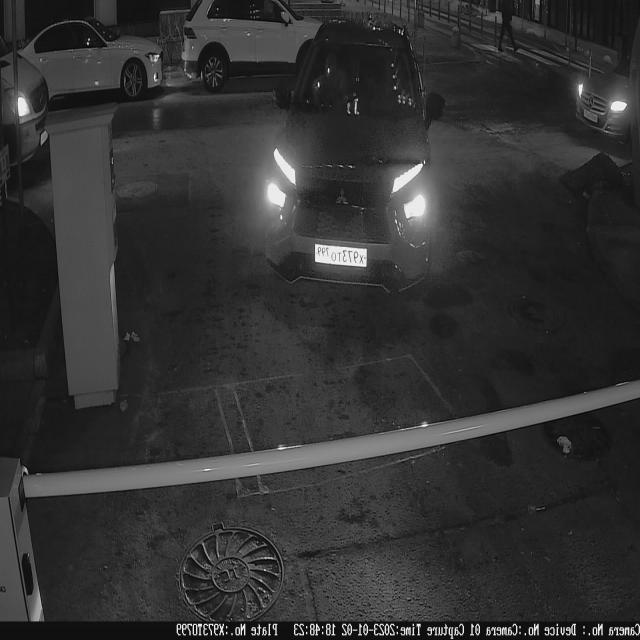car-plate-numbers: (314, 241, 371, 273)
